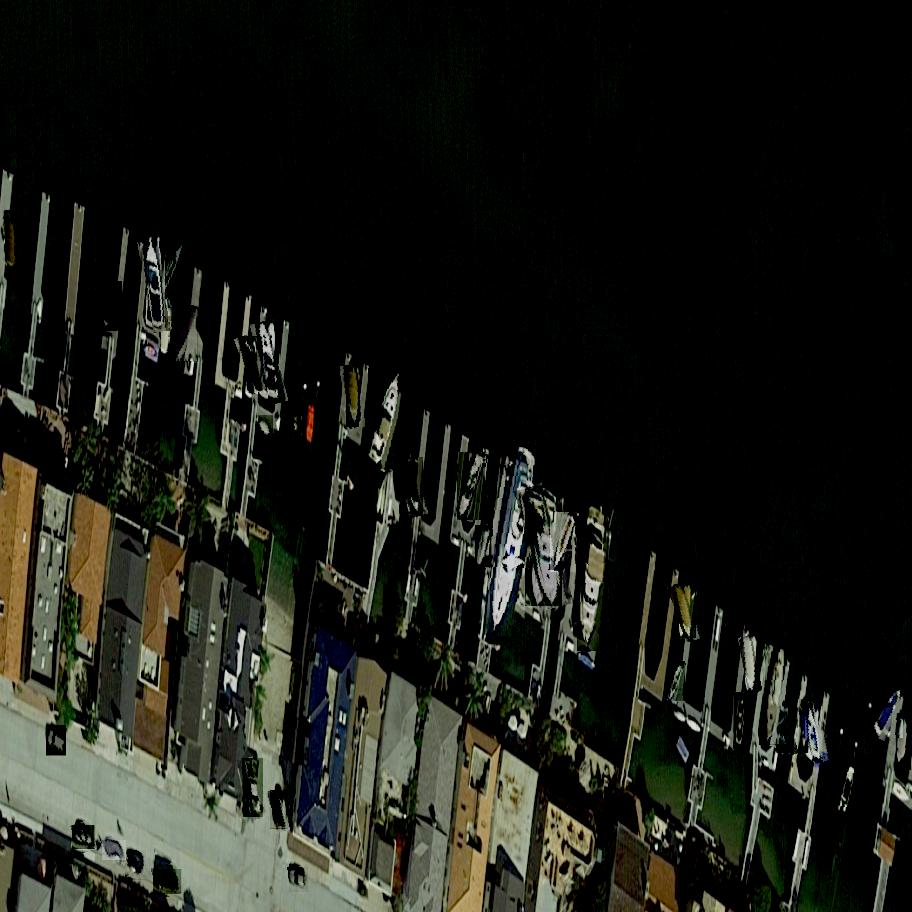ship: (484, 443, 543, 637), (576, 495, 609, 651), (526, 486, 563, 609), (367, 369, 408, 469), (758, 645, 790, 744), (456, 453, 489, 521), (145, 233, 166, 332), (872, 684, 907, 739), (158, 239, 190, 297), (258, 322, 280, 404), (169, 305, 200, 361), (550, 512, 578, 573), (835, 757, 860, 822), (239, 335, 263, 394), (400, 455, 423, 515), (674, 583, 696, 640), (102, 281, 124, 331), (805, 705, 823, 763), (776, 706, 796, 755), (346, 365, 360, 427), (734, 693, 749, 749), (6, 210, 19, 271), (161, 300, 174, 360), (305, 397, 320, 448), (799, 699, 813, 753), (668, 662, 687, 701), (744, 637, 757, 694), (476, 525, 493, 568), (897, 715, 909, 768), (255, 416, 276, 442), (293, 412, 302, 436)
small-vehicle: (243, 757, 264, 819), (40, 726, 72, 756), (150, 869, 185, 894), (269, 789, 288, 830), (123, 851, 148, 880), (69, 825, 98, 849), (102, 836, 126, 864), (289, 867, 308, 893)
